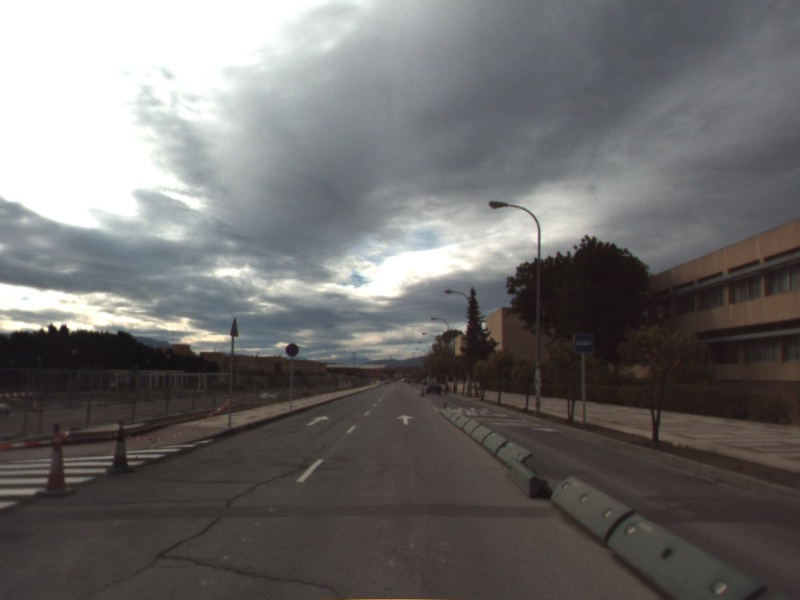STRAIGHT: (305, 413, 331, 428), (395, 412, 416, 426)
